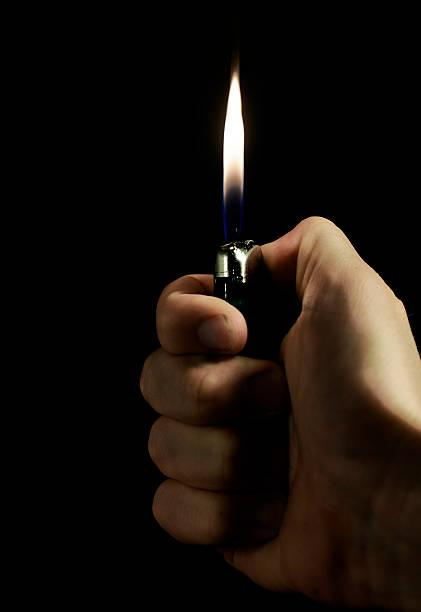Fire: (214, 55, 255, 242)
